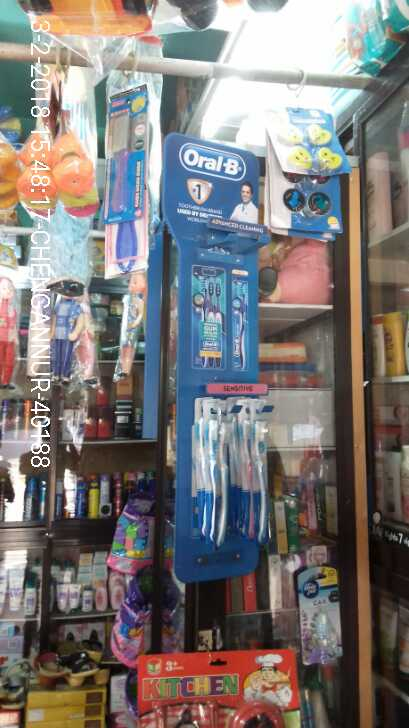home: (297, 565, 344, 657)
pharmacy: (248, 400, 271, 542), (217, 397, 232, 545)
